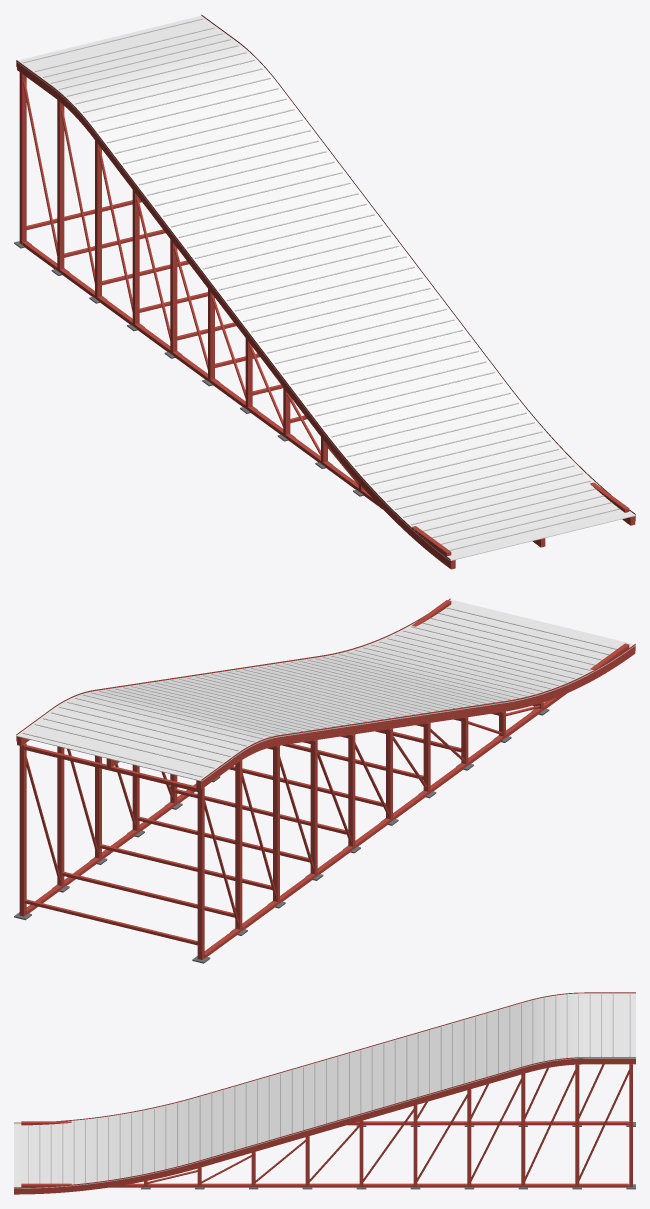
The model's file is sport.stunt.landing_huge.glb.
The picture shows the model from 3 angles, top to bottom: view 1: azimuth 30°, elevation 25°; view 2: azimuth 150°, elevation 25°; view 3: azimuth 270°, elevation 25°; orthographic projection. The views are drawn at different scales.
Visible parts, largest first — view 1: main__steel_fff, main__paint_c44, main__galv_ccc; view 2: main__steel_fff, main__paint_c44, main__galv_ccc, main__steel_777; view 3: main__steel_fff, main__paint_c44, main__galv_ccc, main__steel_777.
Part boxes in pixels (x1,y1,x2,y2): main__steel_fff: [16, 15, 635, 560]; main__paint_c44: [16, 14, 635, 569]; main__galv_ccc: [23, 18, 619, 550]; main__steel_fff: [16, 599, 635, 781]; main__paint_c44: [16, 598, 635, 959]; main__galv_ccc: [23, 607, 616, 777]; main__steel_777: [14, 708, 549, 963]; main__steel_fff: [14, 993, 635, 1188]; main__paint_c44: [14, 992, 635, 1194]; main__galv_ccc: [28, 994, 630, 1184]; main__steel_777: [141, 1122, 635, 1189].
Size of the model in its own units: 3.28 by 3.17 by 13.
